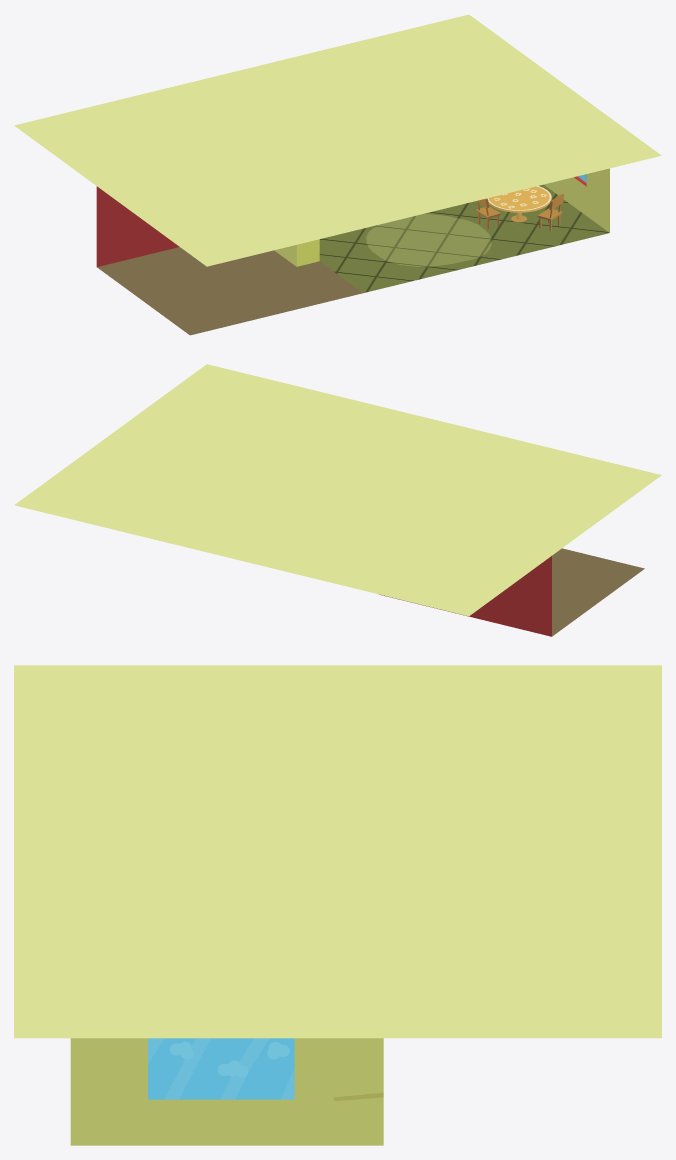
The model's file is MM00984 Kitchen Scene v01.glb.
The picture shows the model from 3 angles, top to bottom: view 1: azimuth 30°, elevation 25°; view 2: azimuth 150°, elevation 25°; view 3: azimuth 270°, elevation 25°; orthographic projection. The views are drawn at different scales.
Parts seen in each view (by area): view 1: Ceiling, Plane, Kitchen Main, Kitchen Side Right, Table, Kitchen Side Left; view 2: Ceiling, Plane; view 3: Ceiling, Kitchen Side Right.
Part boxes in pixels (bbox=[...]): Ceiling: bbox=[14, 14, 661, 266]; Plane: bbox=[96, 186, 362, 335]; Kitchen Main: bbox=[319, 184, 609, 293]; Kitchen Side Right: bbox=[544, 168, 609, 232]; Table: bbox=[487, 186, 551, 222]; Kitchen Side Left: bbox=[274, 239, 319, 266]; Ceiling: bbox=[14, 364, 661, 616]; Plane: bbox=[379, 548, 644, 636]; Ceiling: bbox=[14, 665, 661, 1038]; Kitchen Side Right: bbox=[70, 1038, 383, 1145].
Bounding box in the file's own units: 15.02 × 2.57 × 11.03.
Materials: 5 (2 with a texture image).
